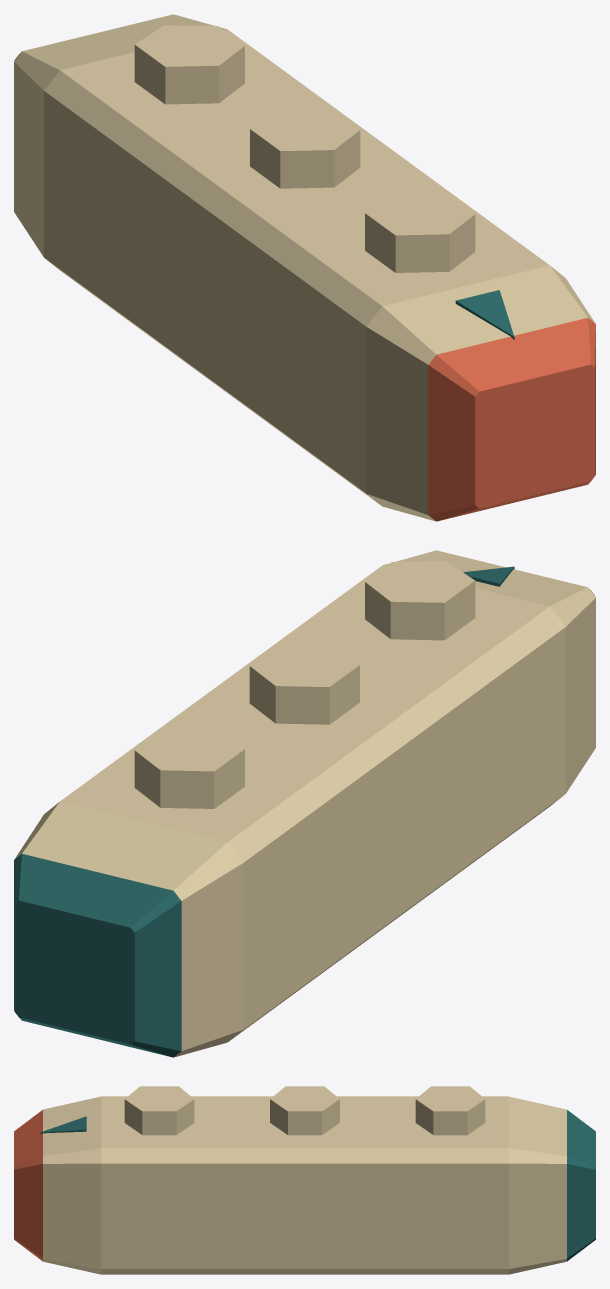
File: pontoon-lod-2.glb
The picture shows the model from 3 angles, top to bottom: view 1: azimuth 30°, elevation 25°; view 2: azimuth 150°, elevation 25°; view 3: azimuth 270°, elevation 25°; orthographic projection. The views are drawn at different scales.
Visible parts, largest first — view 1: pontoon_shell_lod2; view 2: pontoon_shell_lod2; view 3: pontoon_shell_lod2.
Part boxes in pixels (x1,y1,x2,y2): pontoon_shell_lod2: (14, 14, 595, 521); pontoon_shell_lod2: (14, 550, 595, 1057); pontoon_shell_lod2: (14, 1086, 595, 1274).
Size of the model in its own units: 1 by 1.14 by 4.
Materials: 1 (1 with a texture image).
